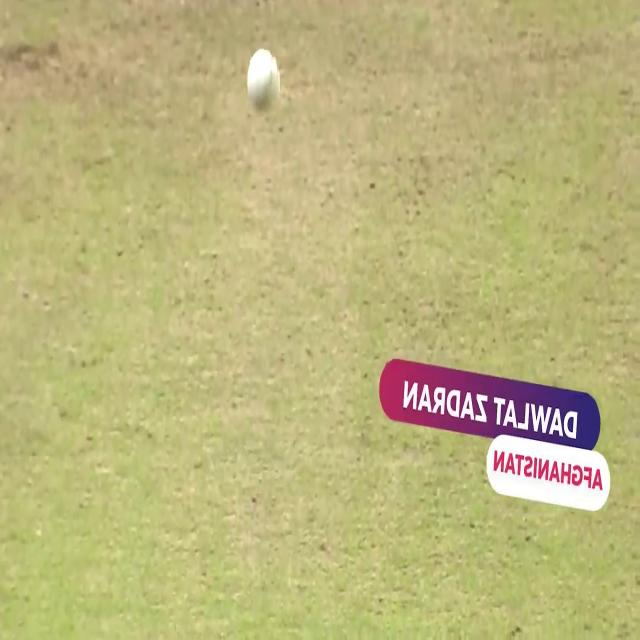ball: (246, 44, 282, 114)
